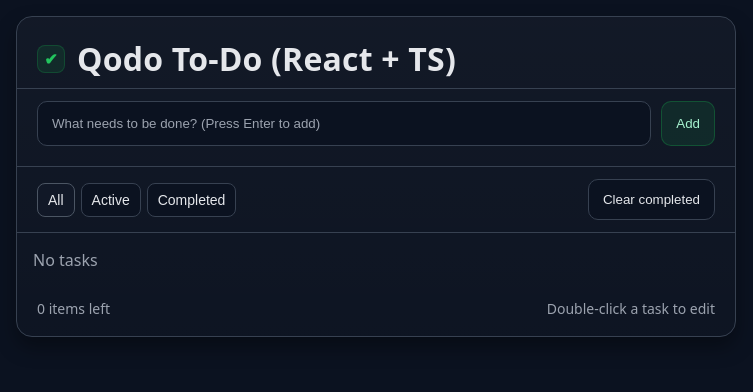
App UI › deletes a todo
Type "Delete me" into the field with placeholder "What needs to be done? (Press Enter to add)".
click(344, 124); type("Delete me")  # box [37,101,651,146]
Then press Enter
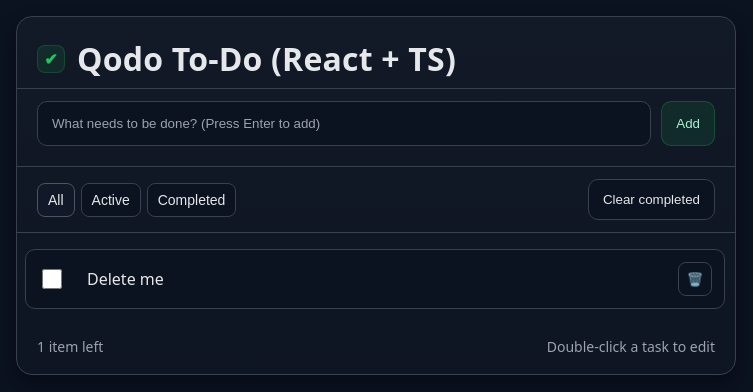
Click the button named "delete task".
click(695, 279)  # box [678,262,712,296]
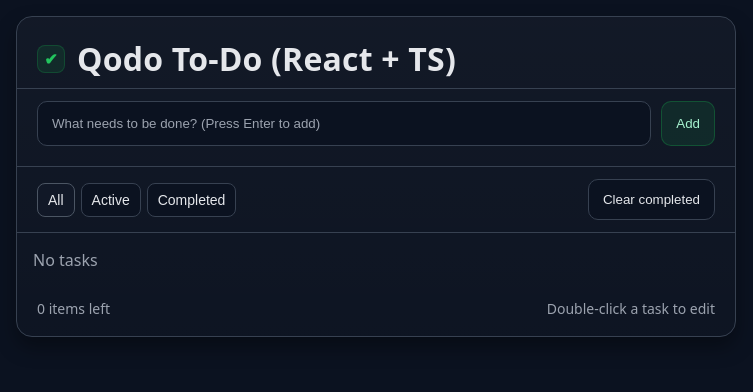
Now the text "Delete me" is gone
